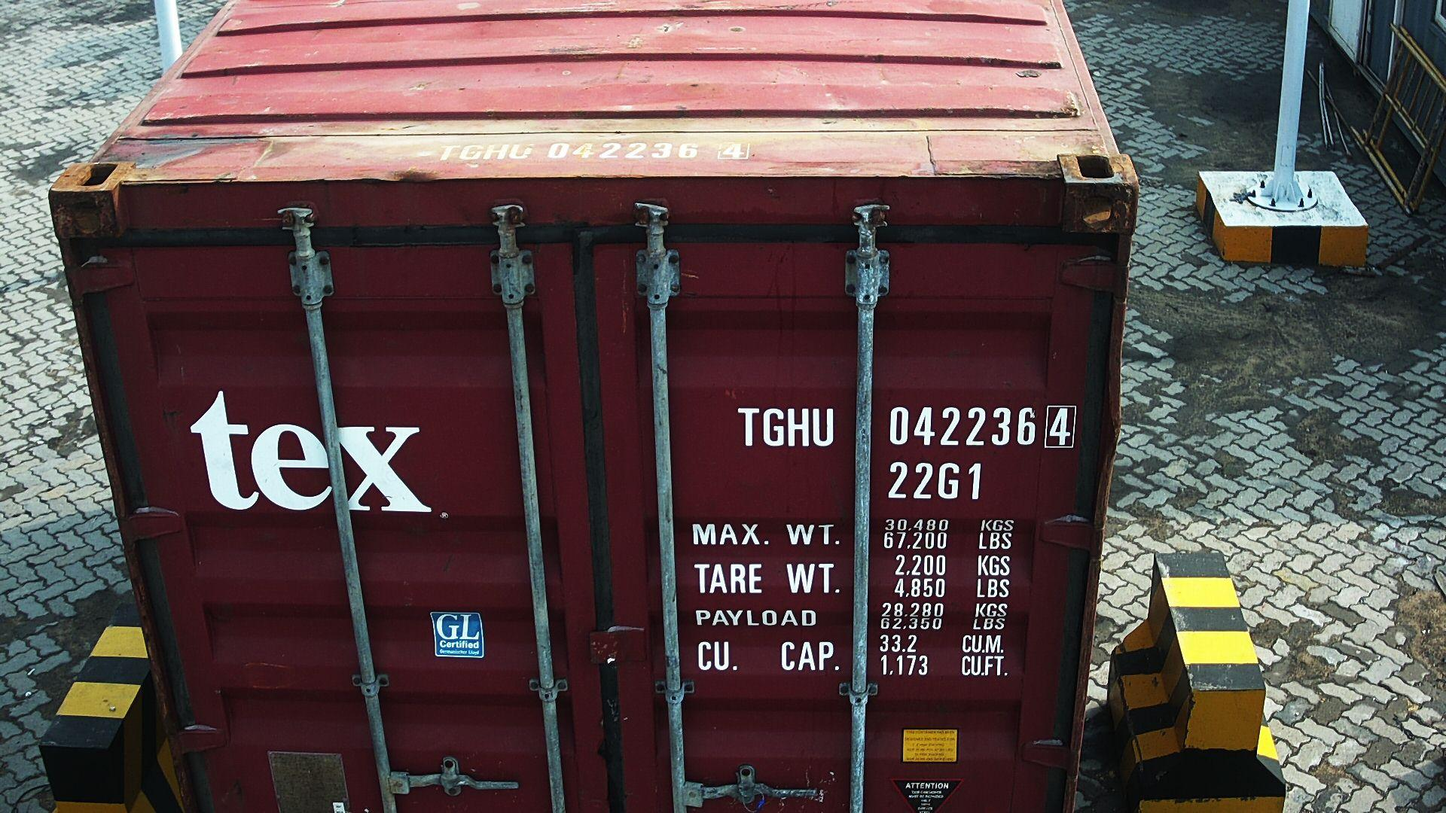container-numbers: (735, 401, 1084, 452), (428, 137, 761, 164), (884, 459, 984, 503)
